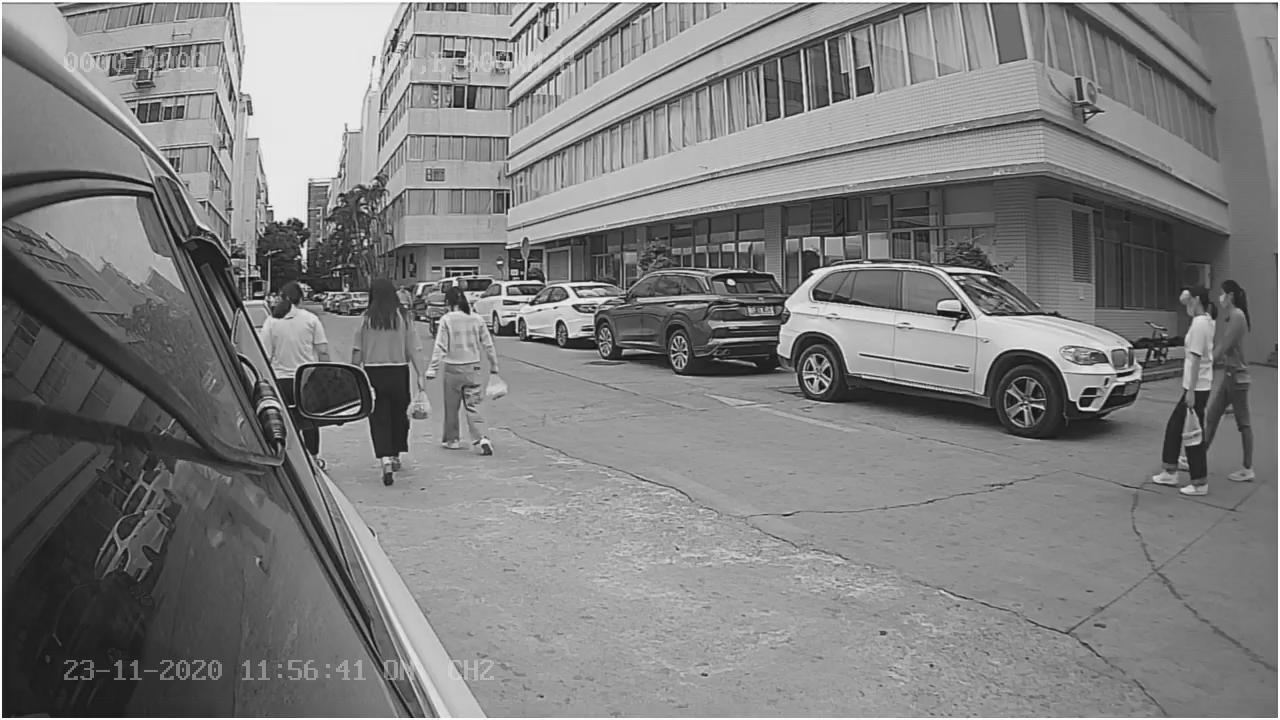person: (349, 268, 433, 492), (1148, 278, 1217, 504), (426, 284, 513, 462), (1209, 280, 1256, 484), (261, 275, 335, 360)
